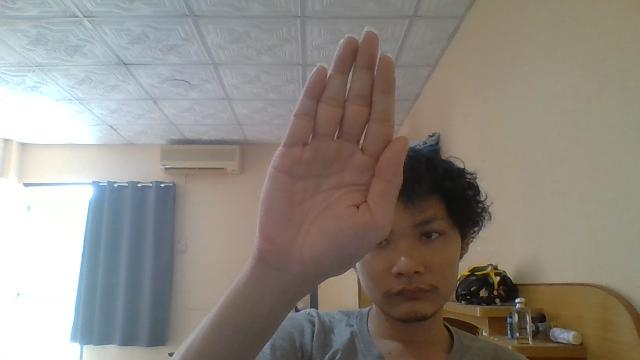Stop: (254, 26, 408, 288)
